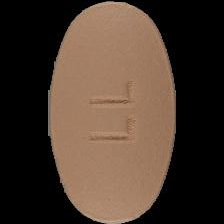0615-7993: (0, 0, 224, 224)
